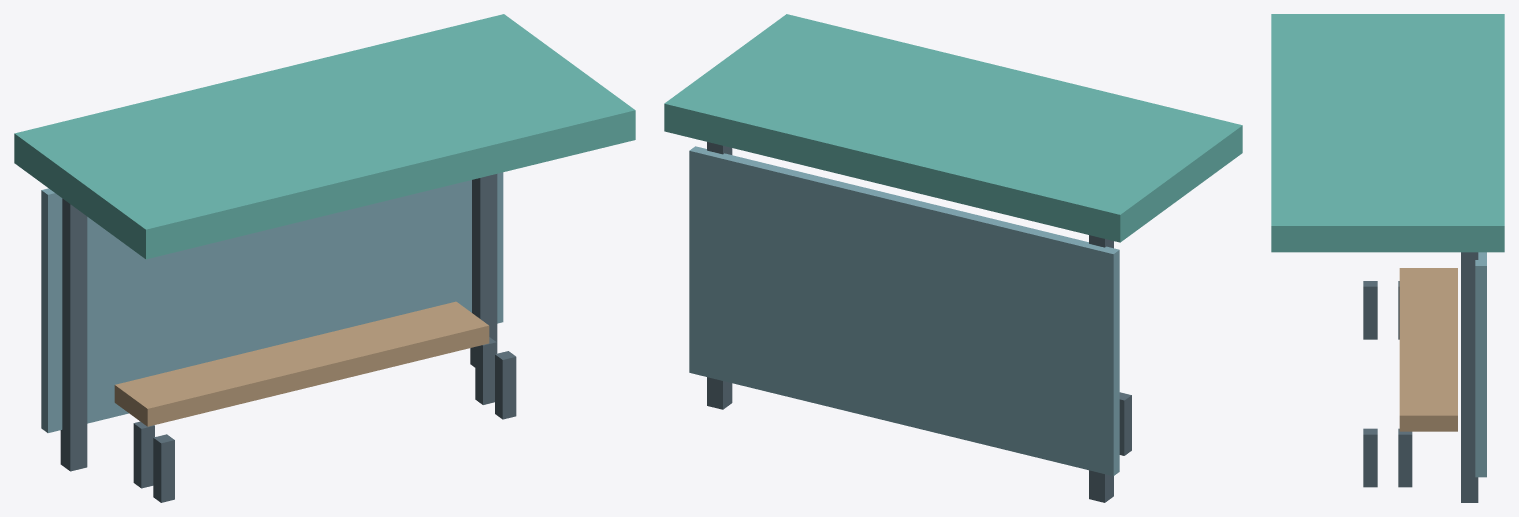
The model's file is voxel-city-districts-bus-shelter-7afe36b9__24827.glb.
3 views of the same model, side by side, from view 1: azimuth 30°, elevation 25°; view 2: azimuth 150°, elevation 25°; view 3: azimuth 270°, elevation 25° (orthographic). The views are drawn at different scales.
Visible parts, largest first — view 1: bus-shelter-accent, bus-shelter-glass, bus-shelter-wood, bus-shelter-dark; view 2: bus-shelter-glass, bus-shelter-accent, bus-shelter-dark; view 3: bus-shelter-accent, bus-shelter-wood, bus-shelter-dark, bus-shelter-glass.
Boxes of the visible parts, x1,y1,x2,y2 form: bus-shelter-accent: (14,14,635,259); bus-shelter-glass: (41,172,503,432); bus-shelter-wood: (114,301,489,426); bus-shelter-dark: (60,174,516,502); bus-shelter-glass: (689,146,1119,476); bus-shelter-accent: (664,14,1242,242); bus-shelter-dark: (707,142,1131,502); bus-shelter-accent: (1271,14,1504,252); bus-shelter-wood: (1399,268,1457,431); bus-shelter-dark: (1363,252,1478,502); bus-shelter-glass: (1475,252,1486,477).
Size of the model in its own units: 4.3 by 2.75 by 2.
